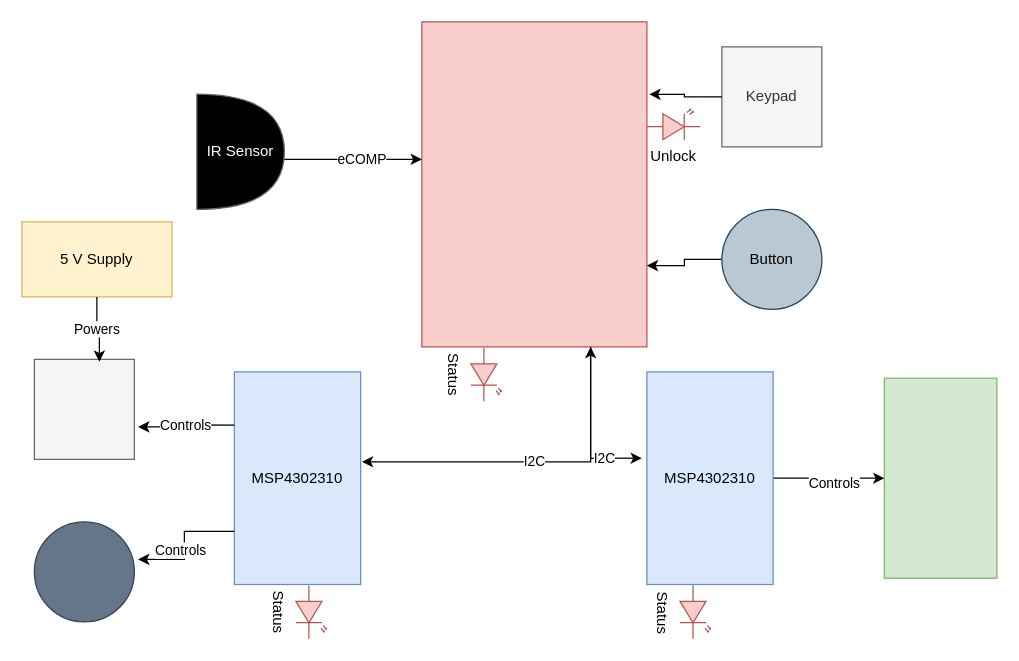
This 1019x661 diagram has some shape labels left out. Here are the shapes that lost their labels. From the top down, the centre of each, then its label:
[534,184]: MSP430FR2355
[83,408]: Motor
[940,477]: LCD
[83,571]: Buzzer
